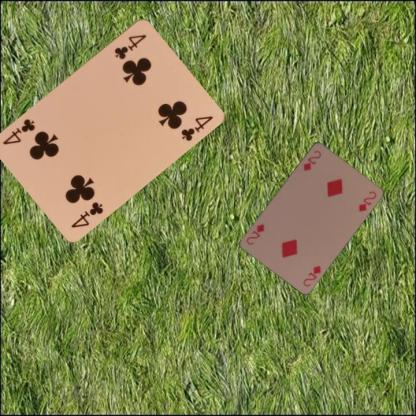2d: (300, 262, 322, 288), (300, 148, 322, 172)
4c: (68, 198, 105, 229), (111, 31, 148, 61)
